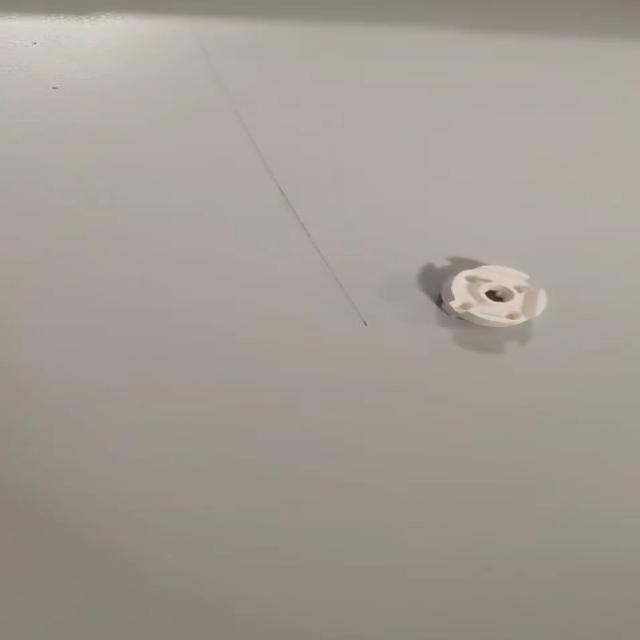S2x2x0: (437, 264, 548, 328)
